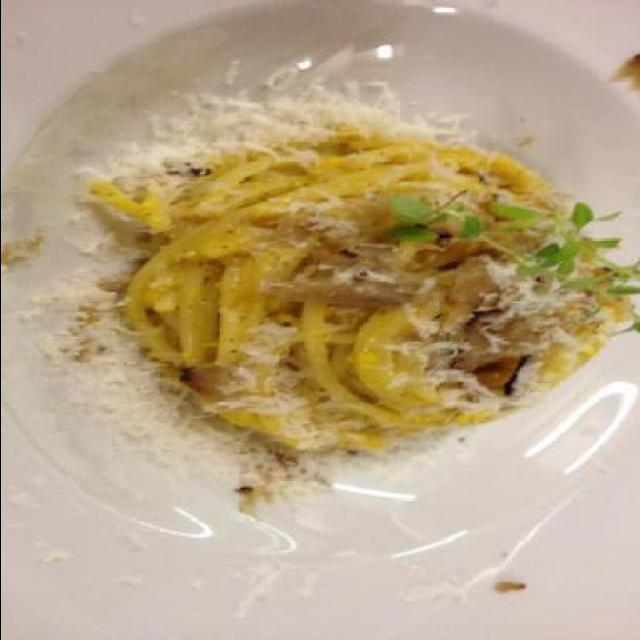Pasta with carbonara sauce: (32, 90, 620, 584)
